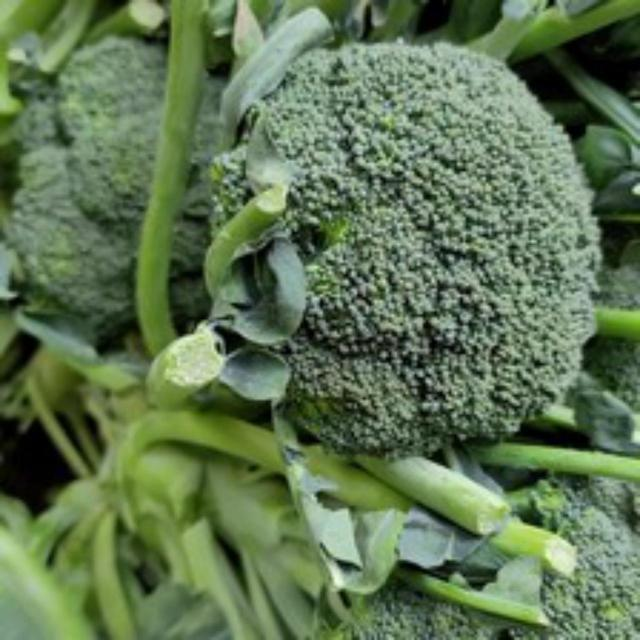broccoli: (217, 32, 600, 457)
